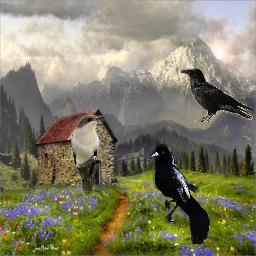Crow: (150, 144, 210, 244), (180, 68, 253, 122)
Cuckoo: (71, 115, 106, 197)
